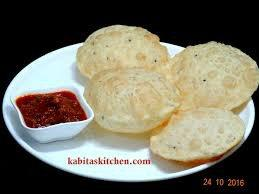Poori: (24, 14, 259, 183)
